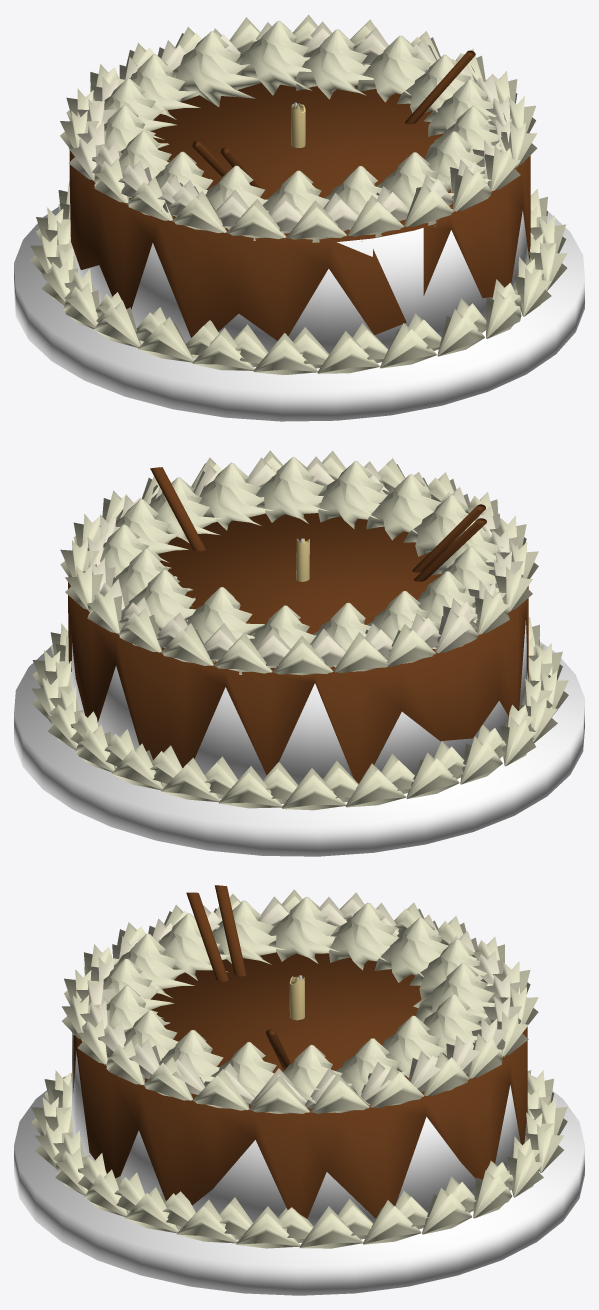
File: cake.glb
The picture shows the model from 3 angles, top to bottom: view 1: azimuth 30°, elevation 25°; view 2: azimuth 150°, elevation 25°; view 3: azimuth 270°, elevation 25°; orthographic projection.
Visible parts, largest first — view 1: Circle.002, Circle, Circle.001, Star.100, Star.101, Star.102, Star.103, Star.116, Star.105, Star.104, Star.107, Star.108 (+52 smaller); view 2: Circle.002, Circle, Circle.001, Star.107, Star.108, Star.106, Star.109, Star.100, Star.101, Star.110, Star.105, Star.104 (+54 smaller); view 3: Circle.002, Circle, Circle.001, Star.113, Star.114, Star.115, Star.100, Star.112, Star.111, Star.110, Star.101, Star.102 (+59 smaller).
Part boxes in pixels (bbox=[...]): Circle.002: bbox=[69, 64, 530, 340]; Circle: bbox=[14, 207, 584, 421]; Circle.001: bbox=[72, 210, 526, 353]; Star.100: bbox=[172, 31, 261, 106]; Star.101: bbox=[236, 21, 311, 95]; Star.102: bbox=[296, 29, 373, 99]; Star.103: bbox=[357, 35, 431, 102]; Star.116: bbox=[129, 54, 200, 119]; Star.105: bbox=[423, 79, 496, 136]; Star.104: bbox=[397, 54, 471, 113]; Star.107: bbox=[424, 131, 491, 191]; Star.108: bbox=[376, 152, 454, 226]; Circle.002: bbox=[68, 513, 528, 783]; Circle: bbox=[14, 642, 584, 856]; Circle.001: bbox=[72, 621, 526, 785]; Star.107: bbox=[256, 457, 328, 523]; Star.108: bbox=[317, 461, 387, 528]; Star.106: bbox=[199, 462, 273, 530]; Star.109: bbox=[366, 474, 441, 540]; Star.100: bbox=[186, 587, 264, 662]; Star.101: bbox=[121, 569, 195, 631]; Star.110: bbox=[403, 494, 468, 556]; Star.105: bbox=[149, 477, 223, 543]; Star.104: bbox=[115, 499, 188, 562]; Circle.002: bbox=[73, 952, 527, 1218]; Circle: bbox=[14, 1073, 584, 1295]; Circle.001: bbox=[72, 1032, 520, 1226]; Star.113: bbox=[268, 897, 339, 963]; Star.114: bbox=[328, 902, 399, 970]; Star.115: bbox=[374, 917, 448, 982]; Star.100: bbox=[413, 963, 494, 1025]; Star.112: bbox=[212, 900, 285, 964]; Star.111: bbox=[158, 913, 229, 980]; Star.110: bbox=[114, 933, 194, 997]; Star.101: bbox=[423, 994, 481, 1057]; Star.102: bbox=[382, 1015, 446, 1077].
Size of the model in its own units: 2 by 0.856 by 2.
